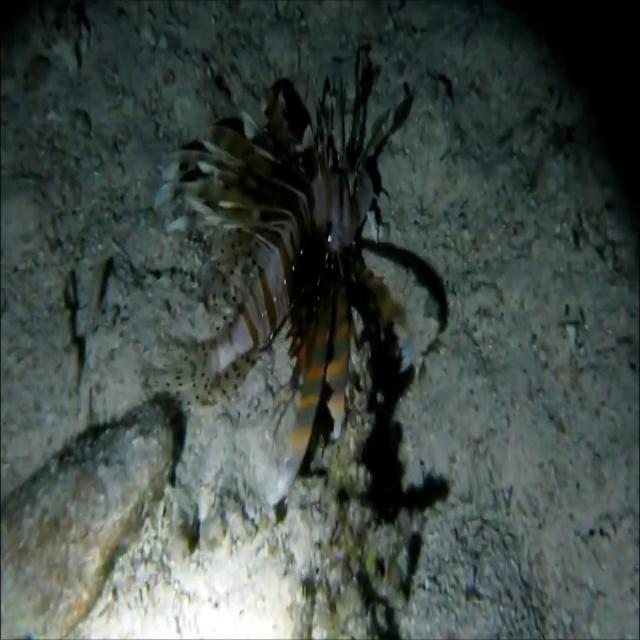Lionfish -Endangered- -Poisonous-: (178, 53, 422, 434)
